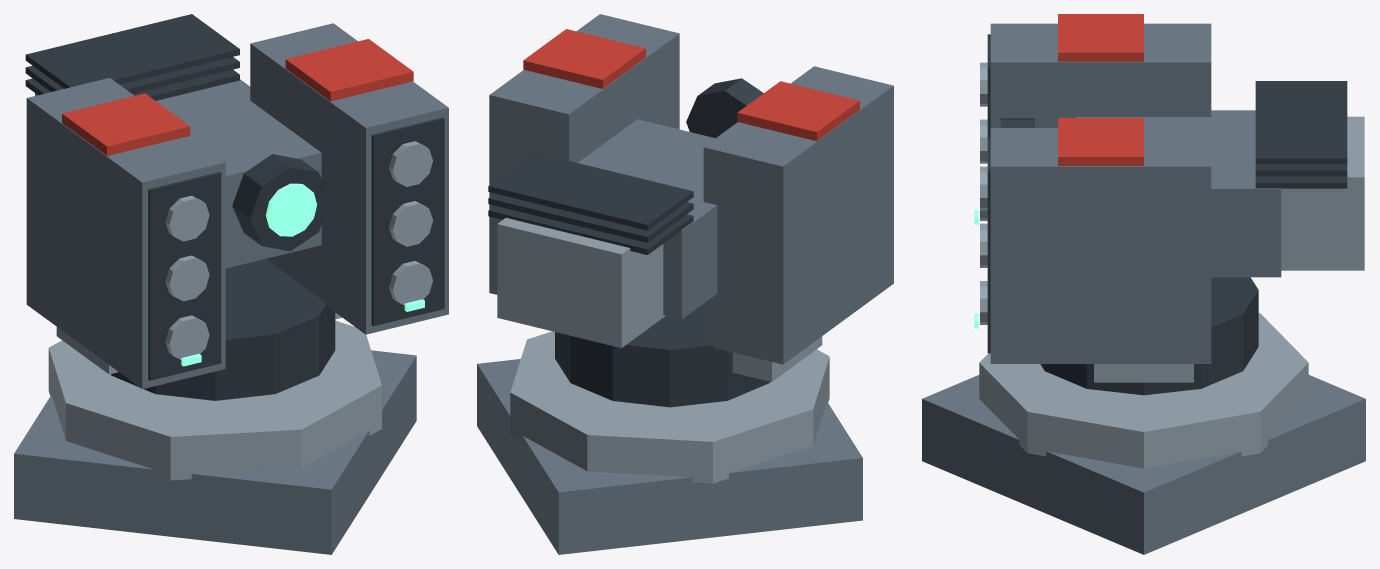
The model's file is quiver_t1.glb.
3 views of the same model, side by side, from view 1: azimuth 30°, elevation 25°; view 2: azimuth 150°, elevation 25°; view 3: azimuth 270°, elevation 25° (orthographic). The views are drawn at different scales.
Visible parts, largest first — view 1: Launch pod (×2), Foundation, Base upper armor, Recessed tube panel (×2), Yaw bearing, Rear radiator (×3), Receiver, Pod identification (×2), Capped missile cell (×6), Tracking sensor, Sensor glass, Elevation fork; view 2: Launch pod (×2), Foundation, Base upper armor, Rear equipment, Rear radiator (×3), Yaw bearing, Receiver, Pod identification (×2), Tracking sensor, Elevation fork; view 3: Launch pod (×2), Foundation, Base upper armor, Receiver, Rear radiator (×3), Rear equipment, Pod identification (×2), Yaw bearing, Elevation fork, Recessed tube panel.
Boxes of the visible parts, <box> form: Launch pod (×2): <box>26,23,448,388</box>; Foundation: <box>14,350,416,554</box>; Base upper armor: <box>48,320,381,480</box>; Recessed tube panel (×2): <box>148,117,444,380</box>; Yaw bearing: <box>111,259,335,400</box>; Rear radiator (×3): <box>25,14,239,100</box>; Receiver: <box>156,79,321,268</box>; Pod identification (×2): <box>62,39,413,155</box>; Capped missile cell (×6): <box>165,141,432,359</box>; Tracking sensor: <box>232,154,330,251</box>; Sensor glass: <box>265,183,316,236</box>; Elevation fork: <box>56,327,118,374</box>; Launch pod (×2): <box>489,14,893,364</box>; Foundation: <box>477,359,862,554</box>; Base upper armor: <box>510,331,829,483</box>; Rear equipment: <box>497,218,665,347</box>; Rear radiator (×3): <box>488,152,693,254</box>; Yaw bearing: <box>555,304,769,407</box>; Receiver: <box>578,119,717,319</box>; Pod identification (×2): <box>523,29,859,141</box>; Tracking sensor: <box>686,78,763,138</box>; Elevation fork: <box>732,336,822,381</box>; Launch pod (×2): <box>990,23,1211,363</box>; Foundation: <box>922,375,1365,554</box>; Base upper armor: <box>979,313,1308,468</box>; Receiver: <box>1075,110,1281,277</box>; Rear radiator (×3): <box>1255,81,1347,188</box>; Rear equipment: <box>1281,116,1364,270</box>; Pod identification (×2): <box>1058,14,1143,165</box>; Yaw bearing: <box>1040,277,1258,395</box>; Elevation fork: <box>1094,364,1193,382</box>; Recessed tube panel: <box>987,138,990,353</box>.
Size of the model in its own units: 1.55 by 1.45 by 1.55.
